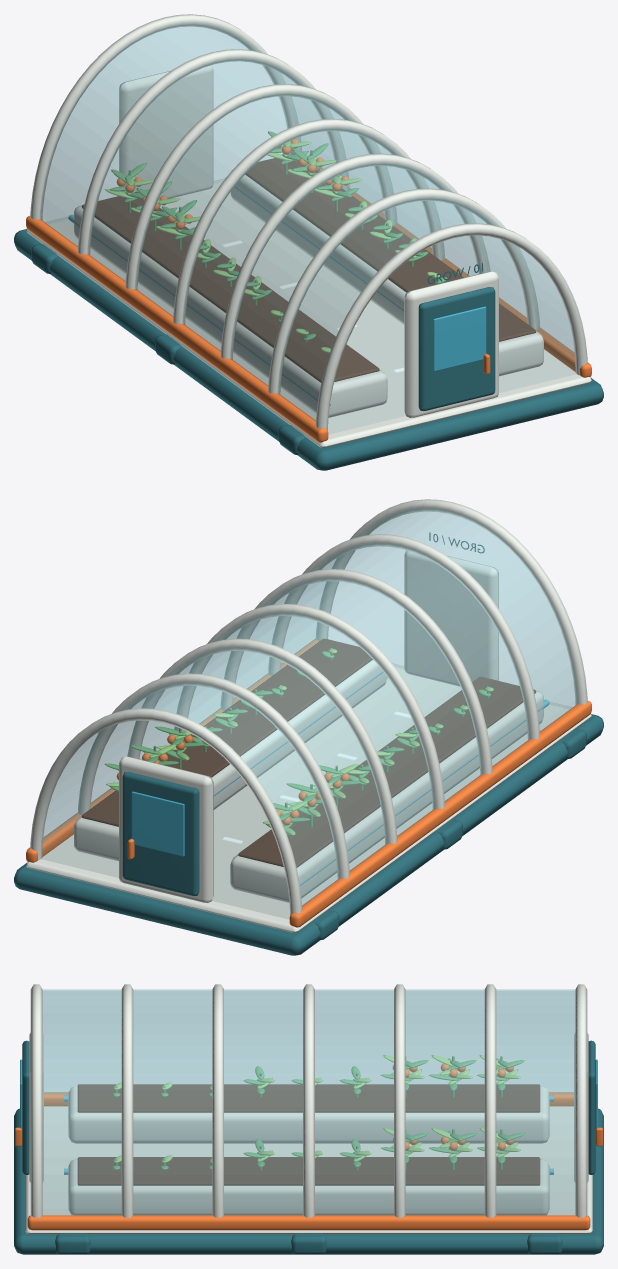
The model's file is Greenhouse_Tunnel.glb.
The picture shows the model from 3 angles, top to bottom: view 1: azimuth 30°, elevation 25°; view 2: azimuth 150°, elevation 25°; view 3: azimuth 270°, elevation 25°; orthographic projection. The views are drawn at different scales.
Parts seen in each view (by area): view 1: Clear end wall, Ceramic floor, Clear pressure shell bay 0, Clear pressure shell bay 1, Clear pressure shell bay 2, Clear pressure shell bay 3, Clear pressure shell bay 4, Clear pressure shell bay 5, Raised foundation, Planting soil, Door surround.001, Hydroponic bed (+14 smaller); view 2: Clear end wall.001, Ceramic floor, Clear pressure shell bay 5, Clear pressure shell bay 4, Clear pressure shell bay 0, Clear pressure shell bay 1, Clear pressure shell bay 2, Clear pressure shell bay 3, Raised foundation, Planting soil, Door surround, Hydroponic bed (+14 smaller); view 3: Clear pressure shell bay 1, Clear pressure shell bay 4, Clear pressure shell bay 0, Clear pressure shell bay 5, Clear pressure shell bay 2, Clear pressure shell bay 3, Ceramic floor, Hydroponic bed.001, Hydroponic bed, Raised foundation, Planting soil.001, Planting soil (+16 smaller).
Part boxes in pixels (x1,y1,x2,y2): Clear end wall: (328,236,576,433); Ceramic floor: (26,178,591,447); Clear pressure shell bay 0: (278,197,574,420); Clear pressure shell bay 1: (230,162,527,385); Clear pressure shell bay 2: (183,127,477,351); Clear pressure shell bay 3: (135,93,431,316); Clear pressure shell bay 4: (87,58,384,281); Clear pressure shell bay 5: (40,23,334,246); Raised foundation: (14,229,603,470); Planting soil: (81,191,379,382); Door surround.001: (119,65,213,198); Hydroponic bed: (74,205,387,417); Clear end wall.001: (41,721,289,918); Ceramic floor: (26,663,591,932); Clear pressure shell bay 5: (43,682,339,905); Clear pressure shell bay 4: (90,647,387,870); Clear pressure shell bay 0: (281,508,577,731); Clear pressure shell bay 1: (233,543,530,766); Clear pressure shell bay 2: (188,578,482,801); Clear pressure shell bay 3: (140,612,434,836); Raised foundation: (14,714,603,955); Planting soil: (238,676,536,867); Door surround: (404,550,498,686); Hydroponic bed: (230,690,543,902); Clear pressure shell bay 1: (133,989,212,1214); Clear pressure shell bay 4: (405,989,484,1214); Clear pressure shell bay 0: (42,989,121,1214); Clear pressure shell bay 5: (496,989,575,1214); Clear pressure shell bay 2: (224,989,302,1214); Clear pressure shell bay 3: (315,989,393,1214); Ceramic floor: (25,1106,592,1234); Hydroponic bed.001: (68,1159,549,1215); Hydroponic bed: (68,1086,549,1143); Raised foundation: (14,1108,603,1254); Planting soil.001: (77,1157,540,1185); Planting soil: (77,1084,540,1112).
Size of the model in its own units: 3.56 by 2.38 by 6.5.
